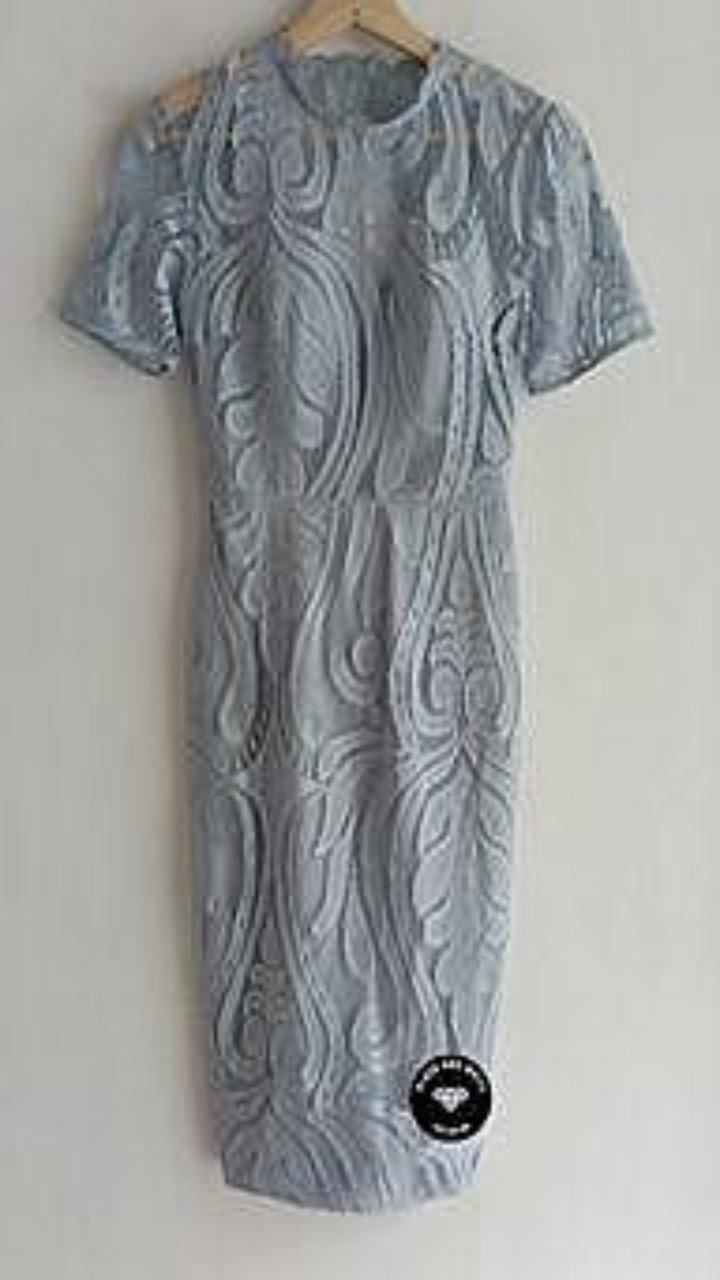T-Shirt: (60, 28, 653, 1210)
